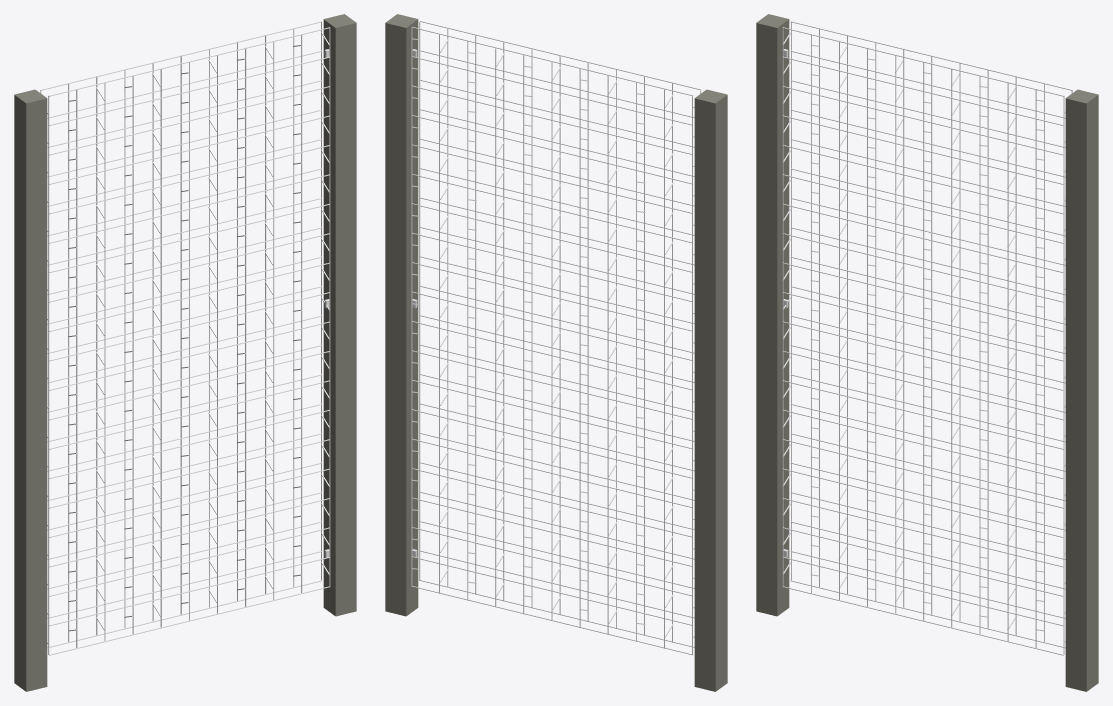
Rendered from toremeshfence_w1100_white_soutiencollar.fbx.
3 views of the same model, side by side, from view 1: azimuth 30°, elevation 25°; view 2: azimuth 150°, elevation 25°; view 3: azimuth 330°, elevation 25° (orthographic).
Visible parts, largest first — view 1: トレメッシュ1100.018; view 2: トレメッシュ1100.018; view 3: トレメッシュ1100.018.
Part boxes in pixels (x1,y1,x2,y2): トレメッシュ1100.018: (14, 14, 356, 691); トレメッシュ1100.018: (385, 14, 727, 691); トレメッシュ1100.018: (756, 14, 1098, 691).
Size of the model in its own units: 117 by 200 by 7.5.
Materials: 3 (3 with a texture image).
